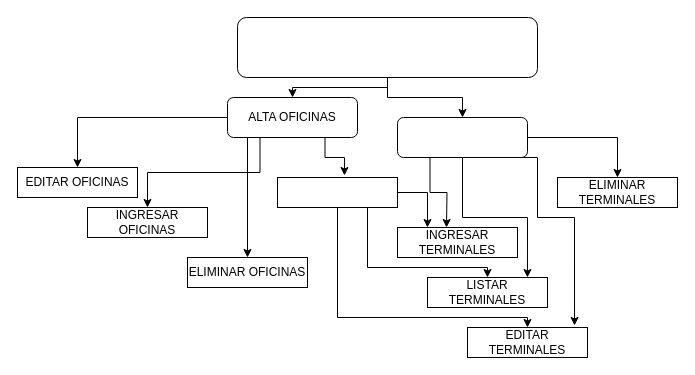
Some shapes in this 695 by 375 pixel diagram are drawn without their labels. The centre of each missing label's shape, as x and y in pixels:
"ALTA OFICINAS Y TERMINALES" goes at pixel 387 47.
"ALTA TERMINALES" goes at pixel 462 137.
"LISTAR OFICINAS" goes at pixel 337 192.
